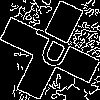P: (25, 25, 81, 76)
